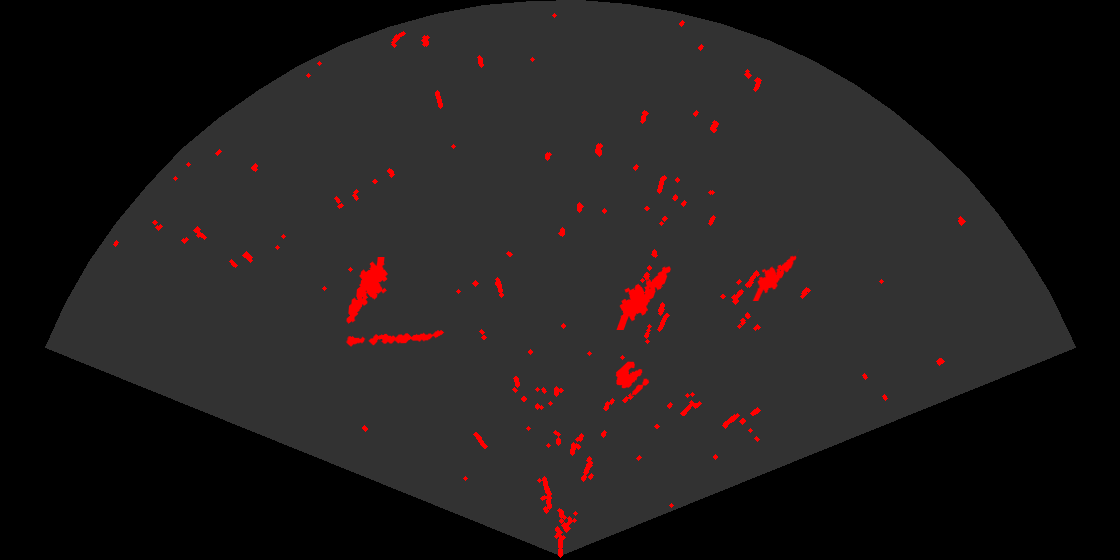ball: (614, 360, 651, 397)
chain: (345, 329, 446, 348)
frogman: (615, 265, 673, 330), (345, 257, 389, 325), (751, 248, 799, 301)
